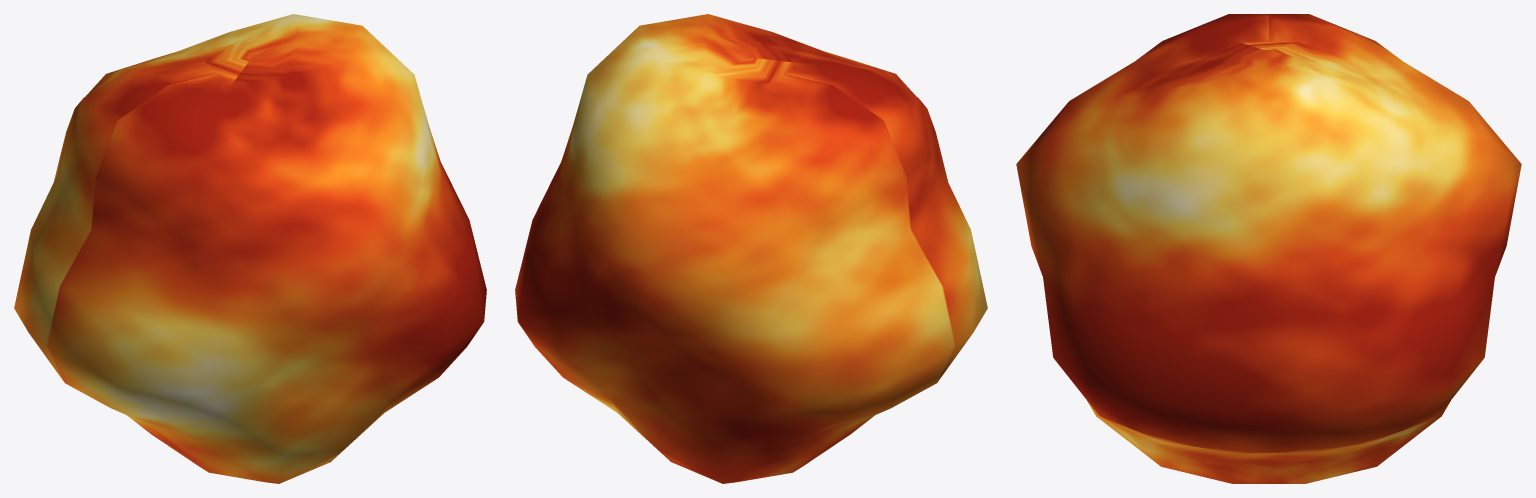
File: Fireball.fbx
3 renders of one model, left to right at view 1: azimuth 30°, elevation 25°; view 2: azimuth 150°, elevation 25°; view 3: azimuth 270°, elevation 25°, orthographic. The views are drawn at different scales.
Visible parts, largest first — view 1: FireballShell; view 2: FireballShell; view 3: FireballShell.
Boxes of the visible parts, <box> form: FireballShell: <box>14,14,486,483</box>; FireballShell: <box>515,14,987,483</box>; FireballShell: <box>1016,14,1521,483</box>.
Bounding box in the file's own units: 2.7 × 2.66 × 2.77.
1 material, 1 textured.
